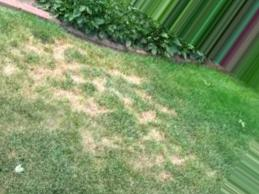patch: (54, 48, 71, 63), (35, 70, 51, 83), (75, 97, 89, 111), (8, 64, 19, 73), (140, 111, 151, 120), (151, 129, 159, 136), (128, 75, 135, 83), (97, 76, 101, 85)
